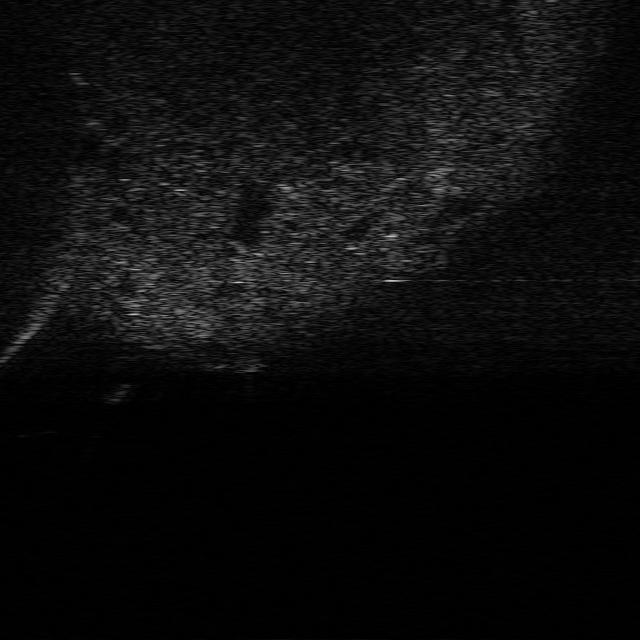cylinder: (104, 380, 131, 407)
